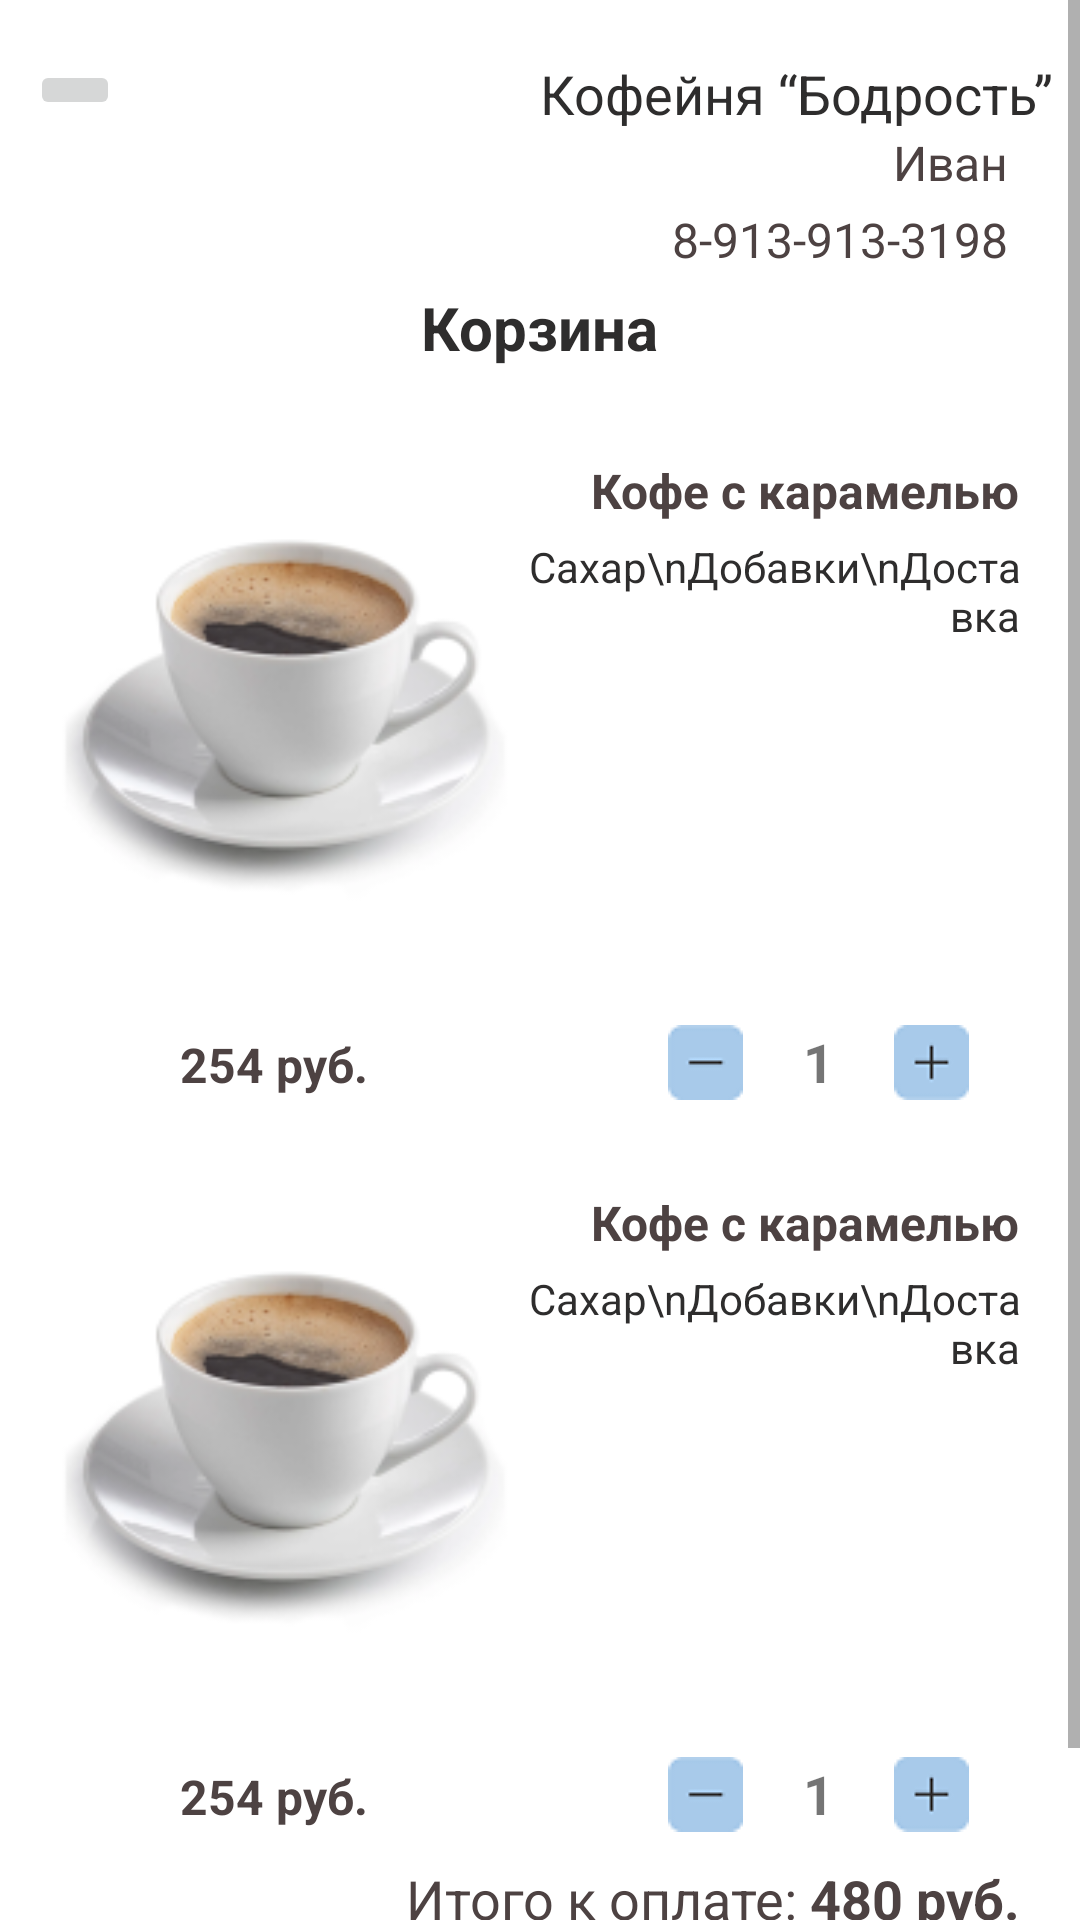

Named icons in this screenshot (1080x1920) and their centers, (x,y):
minus: (705,1062), (705,1794)
plus: (931,1062), (931,1794)
